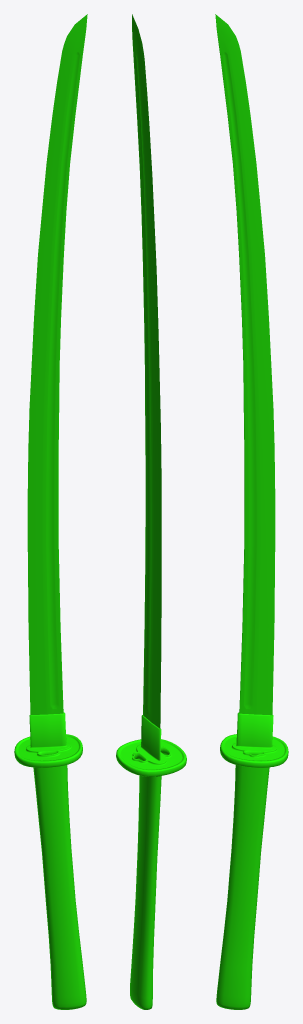
Rendered from Modeling_Weapon_katana_Blade.FBX.
3 views of the same model, side by side, from view 1: azimuth 90°, elevation 25°; view 2: azimuth 210°, elevation 25°; view 3: azimuth 270°, elevation 25° (orthographic).
Visible parts, largest first — view 1: Grru_Katana; view 2: Grru_Katana; view 3: Grru_Katana.
Boxes of the visible parts, <box> form: Grru_Katana: <box>14,14,87,1009</box>; Grru_Katana: <box>116,14,186,1009</box>; Grru_Katana: <box>215,14,288,1009</box>.
Bounding box in the file's own units: 8.25 × 132 × 8.78.
